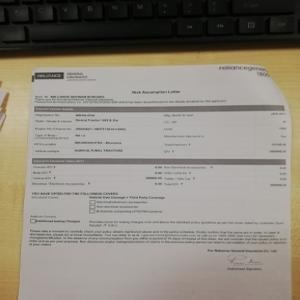image: (35, 70, 67, 80)
table: (28, 157, 289, 215), (32, 104, 290, 158)
text: (27, 216, 290, 254), (127, 88, 186, 97)
